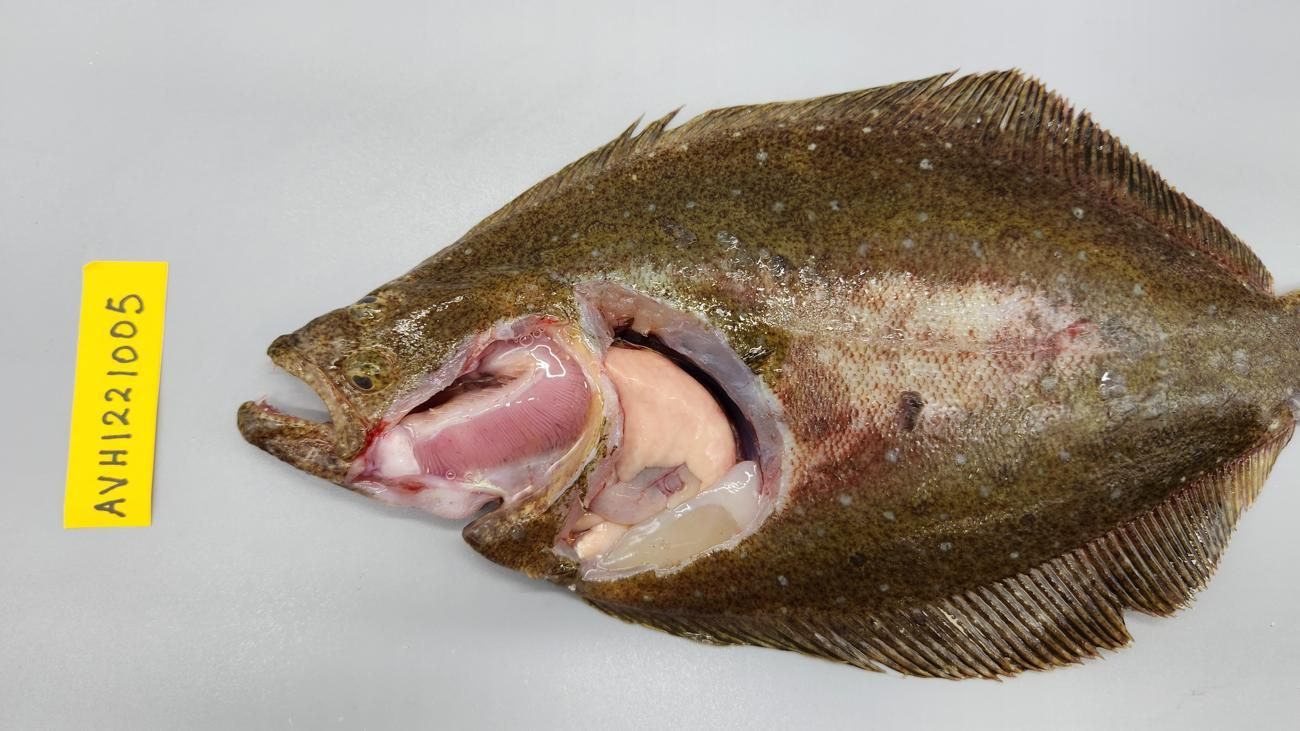VIGIP: (416, 335, 593, 476)
